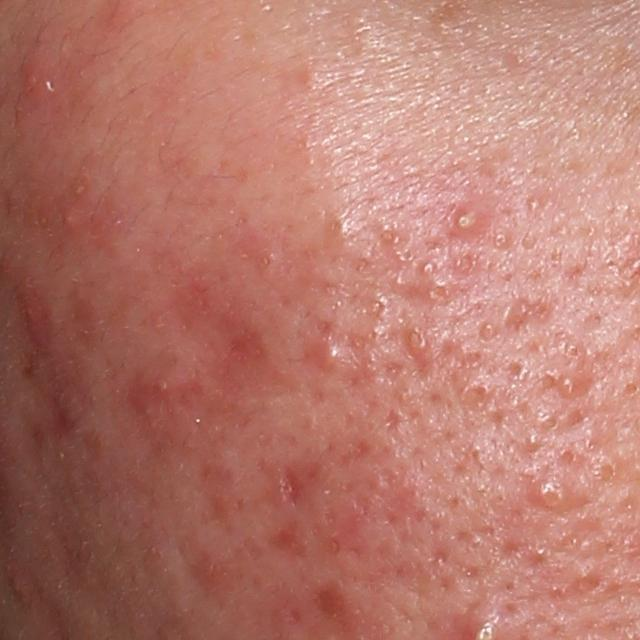atrophic_scar: (221, 315, 281, 386), (497, 298, 559, 339), (310, 575, 361, 622), (268, 460, 310, 514), (264, 522, 322, 560)
comedo: (375, 221, 405, 251), (537, 410, 563, 434), (565, 340, 587, 364), (491, 232, 511, 254), (524, 433, 544, 452), (420, 259, 437, 277), (480, 321, 497, 339), (526, 196, 543, 213)
papule: (129, 356, 217, 424), (303, 326, 361, 377), (13, 280, 52, 337), (190, 546, 235, 594), (10, 45, 48, 98), (400, 325, 436, 359)
pustule: (447, 203, 491, 241), (531, 476, 572, 513)
